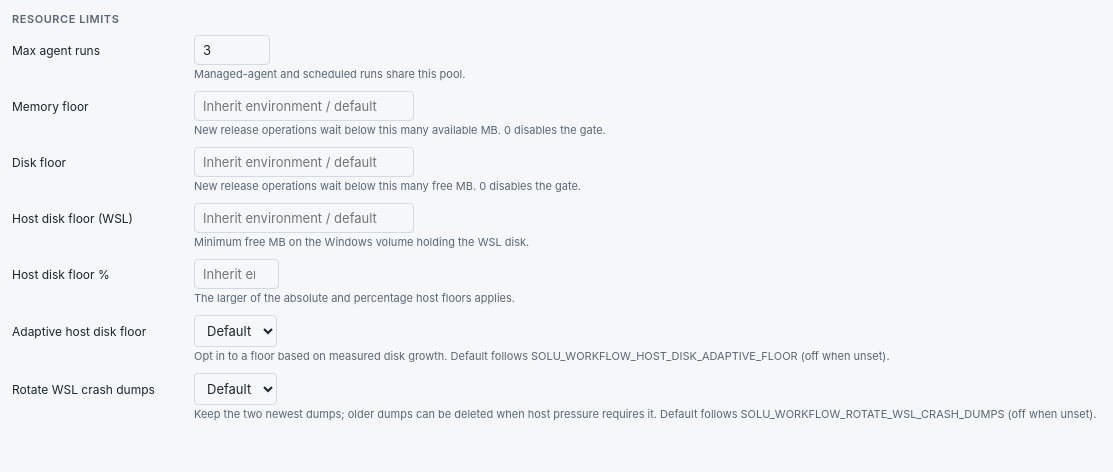
Resource limits › rejects an out-of-range value, shows why and puts the saved value back
Replace the text in the number field named "Max agent runs" with "0" at coordinates (232, 50), box x1=194 y1=35 x2=270 y2=65
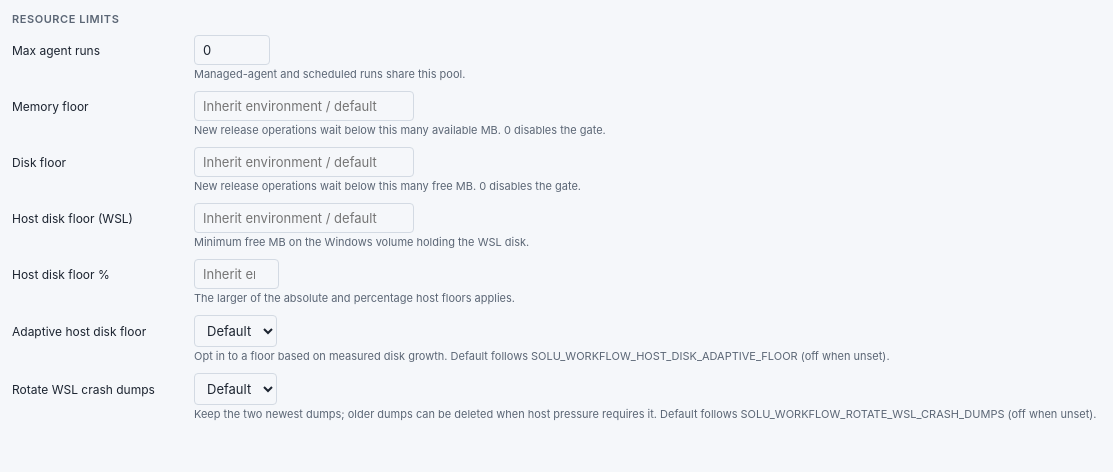
Leave the number field named "Max agent runs", box x1=194 y1=35 x2=270 y2=65
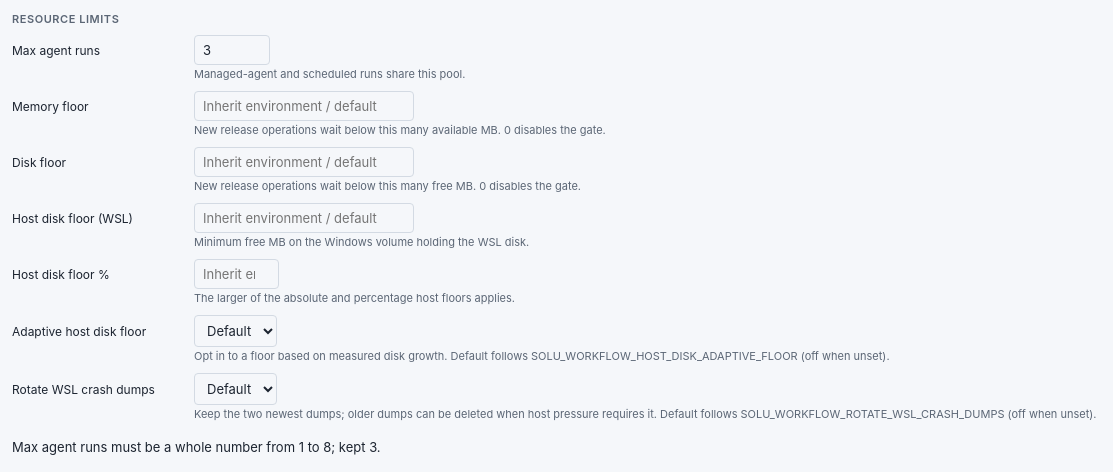
Now the number field named "Max agent runs" holds "3", box x1=194 y1=35 x2=270 y2=65
Now the message shows "from 1 to 8; kept 3", box x1=12 y1=439 x2=381 y2=455
